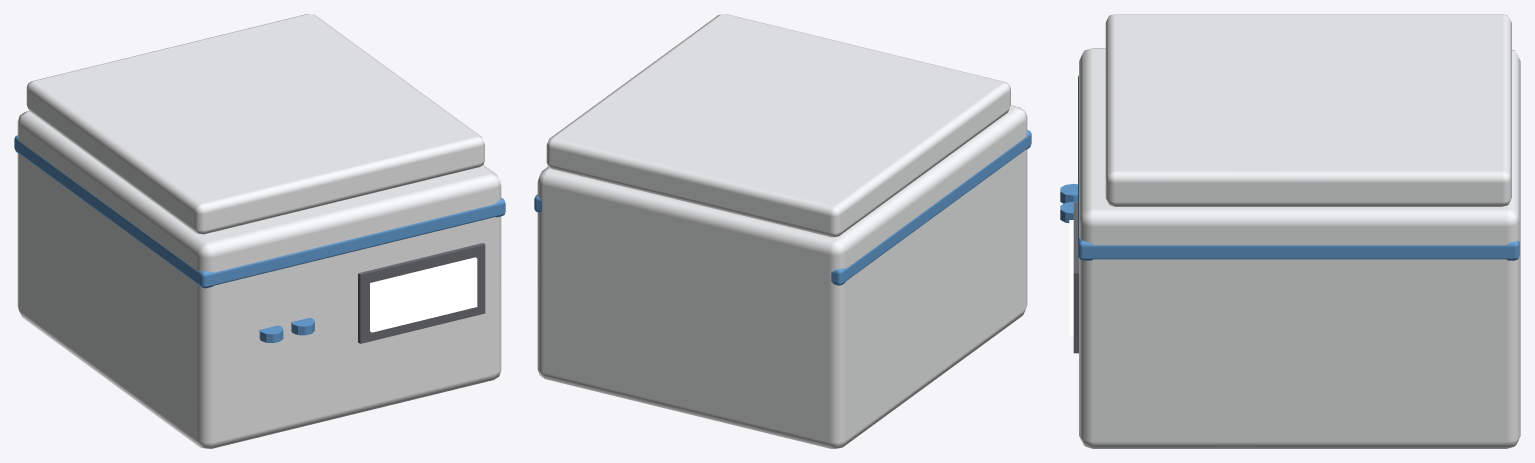
Rendered from centrifuge.glb.
3 views of the same model, side by side, from view 1: azimuth 30°, elevation 25°; view 2: azimuth 150°, elevation 25°; view 3: azimuth 270°, elevation 25° (orthographic). The views are drawn at different scales.
Parts seen in each view (by area): view 1: centrifuge, lid/white; view 2: centrifuge, lid/white; view 3: centrifuge, lid/white.
Boxes of the visible parts, box(x1,y1,x2,y2) form: centrifuge: box(14, 111, 505, 448); lid/white: box(26, 14, 484, 234); centrifuge: box(534, 105, 1031, 448); lid/white: box(546, 14, 1010, 237); centrifuge: box(1060, 48, 1520, 448); lid/white: box(1105, 14, 1511, 206).
Bounding box in the file's own units: 0.462 × 0.345 × 0.5212.
